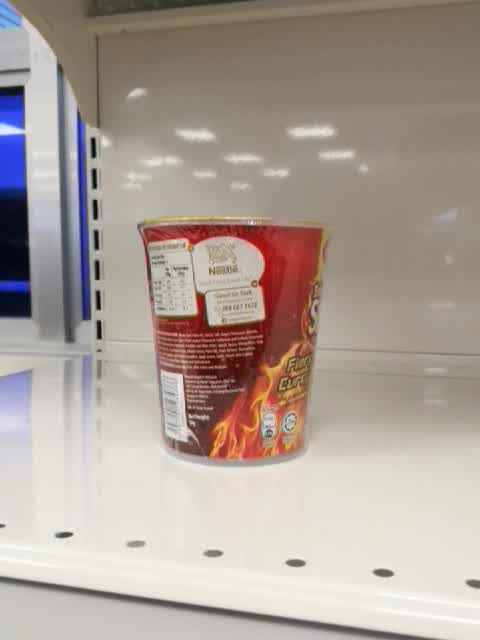maggi: (139, 214, 332, 469)
